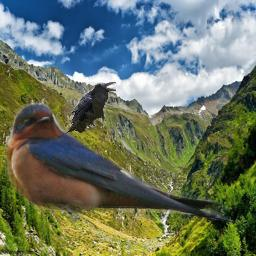Crow: (64, 82, 116, 136)
Swallow: (4, 103, 244, 226)
